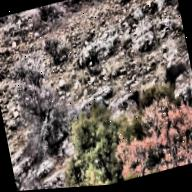boar: (157, 59, 192, 102)
